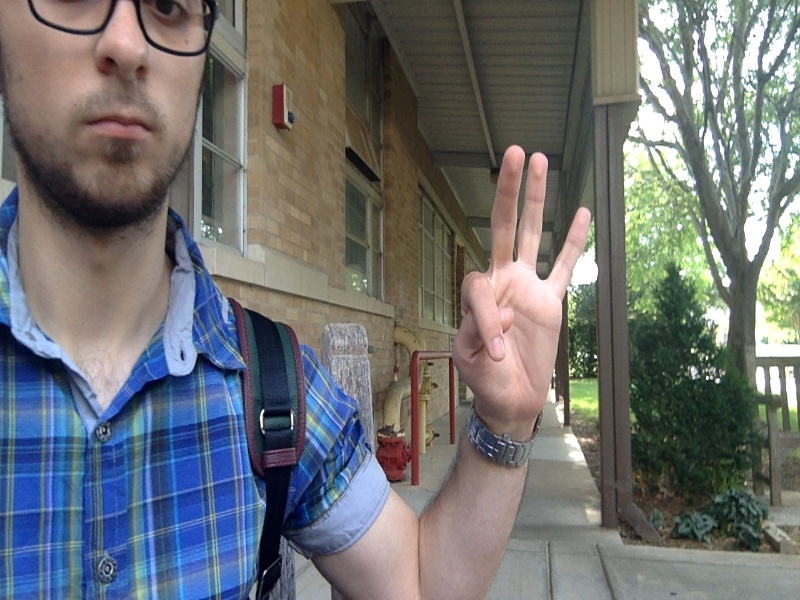3-hand: (454, 144, 590, 422)
